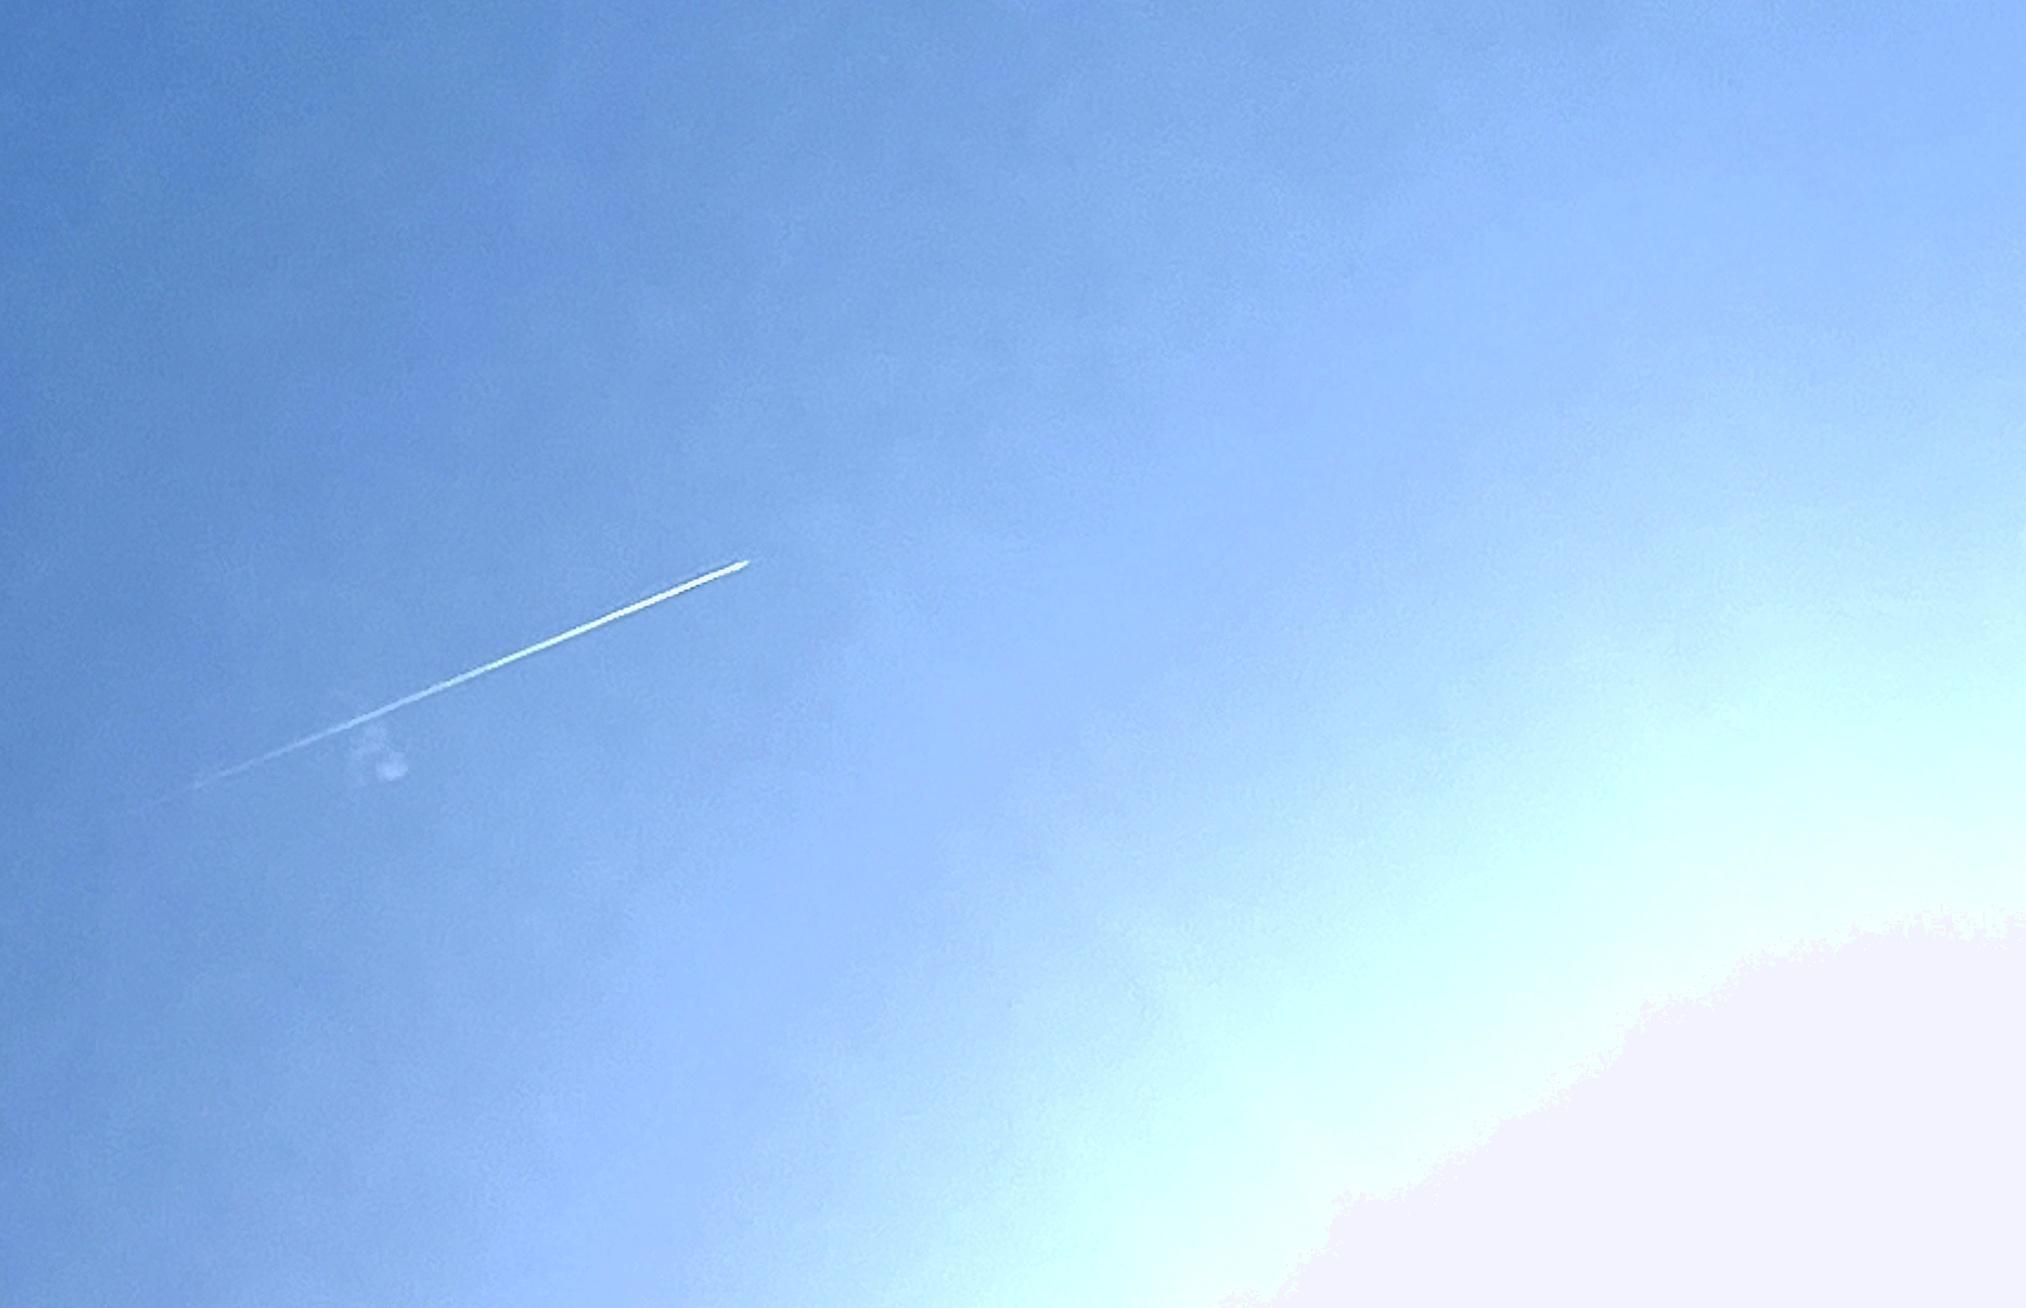Plane: (496, 502, 830, 728)
